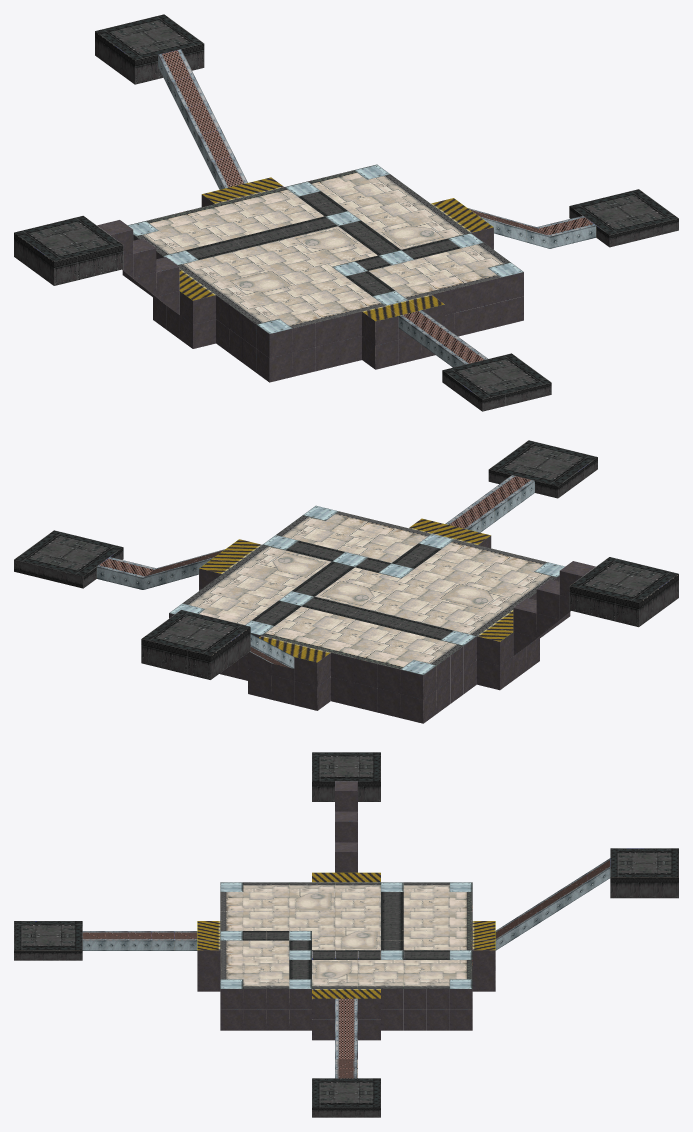
The model's file is test-zone2.glb.
3 views of the same model, one above another, from view 1: azimuth 30°, elevation 25°; view 2: azimuth 150°, elevation 25°; view 3: azimuth 270°, elevation 25° (orthographic). The views are drawn at different scales.
Visible parts, largest first — view 1: Frame_0.015; view 2: Frame_0.015; view 3: Frame_0.015.
Part boxes in pixels (x1,y1,x2,y2): Frame_0.015: [14, 14, 678, 411]; Frame_0.015: [14, 440, 678, 723]; Frame_0.015: [14, 752, 678, 1117].
Size of the model in its own units: 135 by 27.5 by 145.
1 material, 1 textured.
